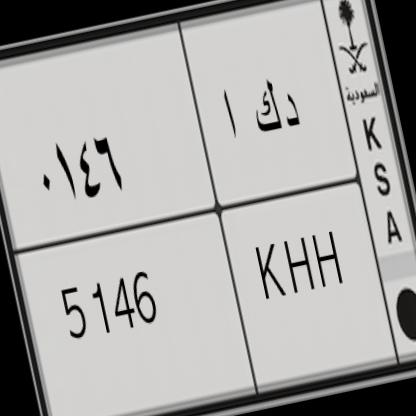english: (7, 164, 399, 416)
